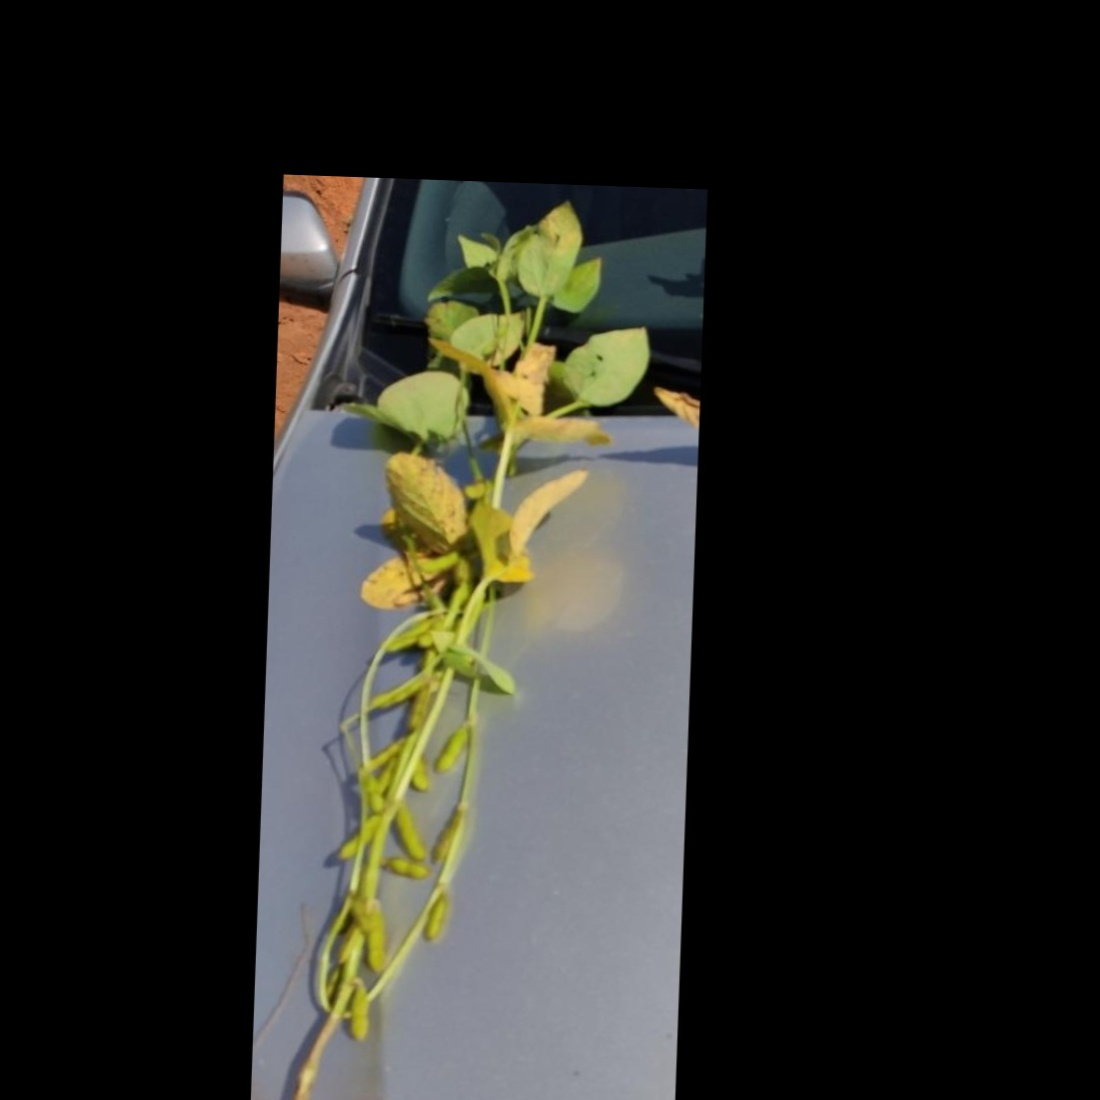pod: (353, 731, 420, 781), (319, 811, 380, 863), (390, 804, 430, 869), (429, 719, 474, 776), (362, 900, 391, 981), (346, 977, 374, 1053), (423, 889, 451, 947), (380, 856, 435, 884)
soy: (248, 233, 633, 1100)
